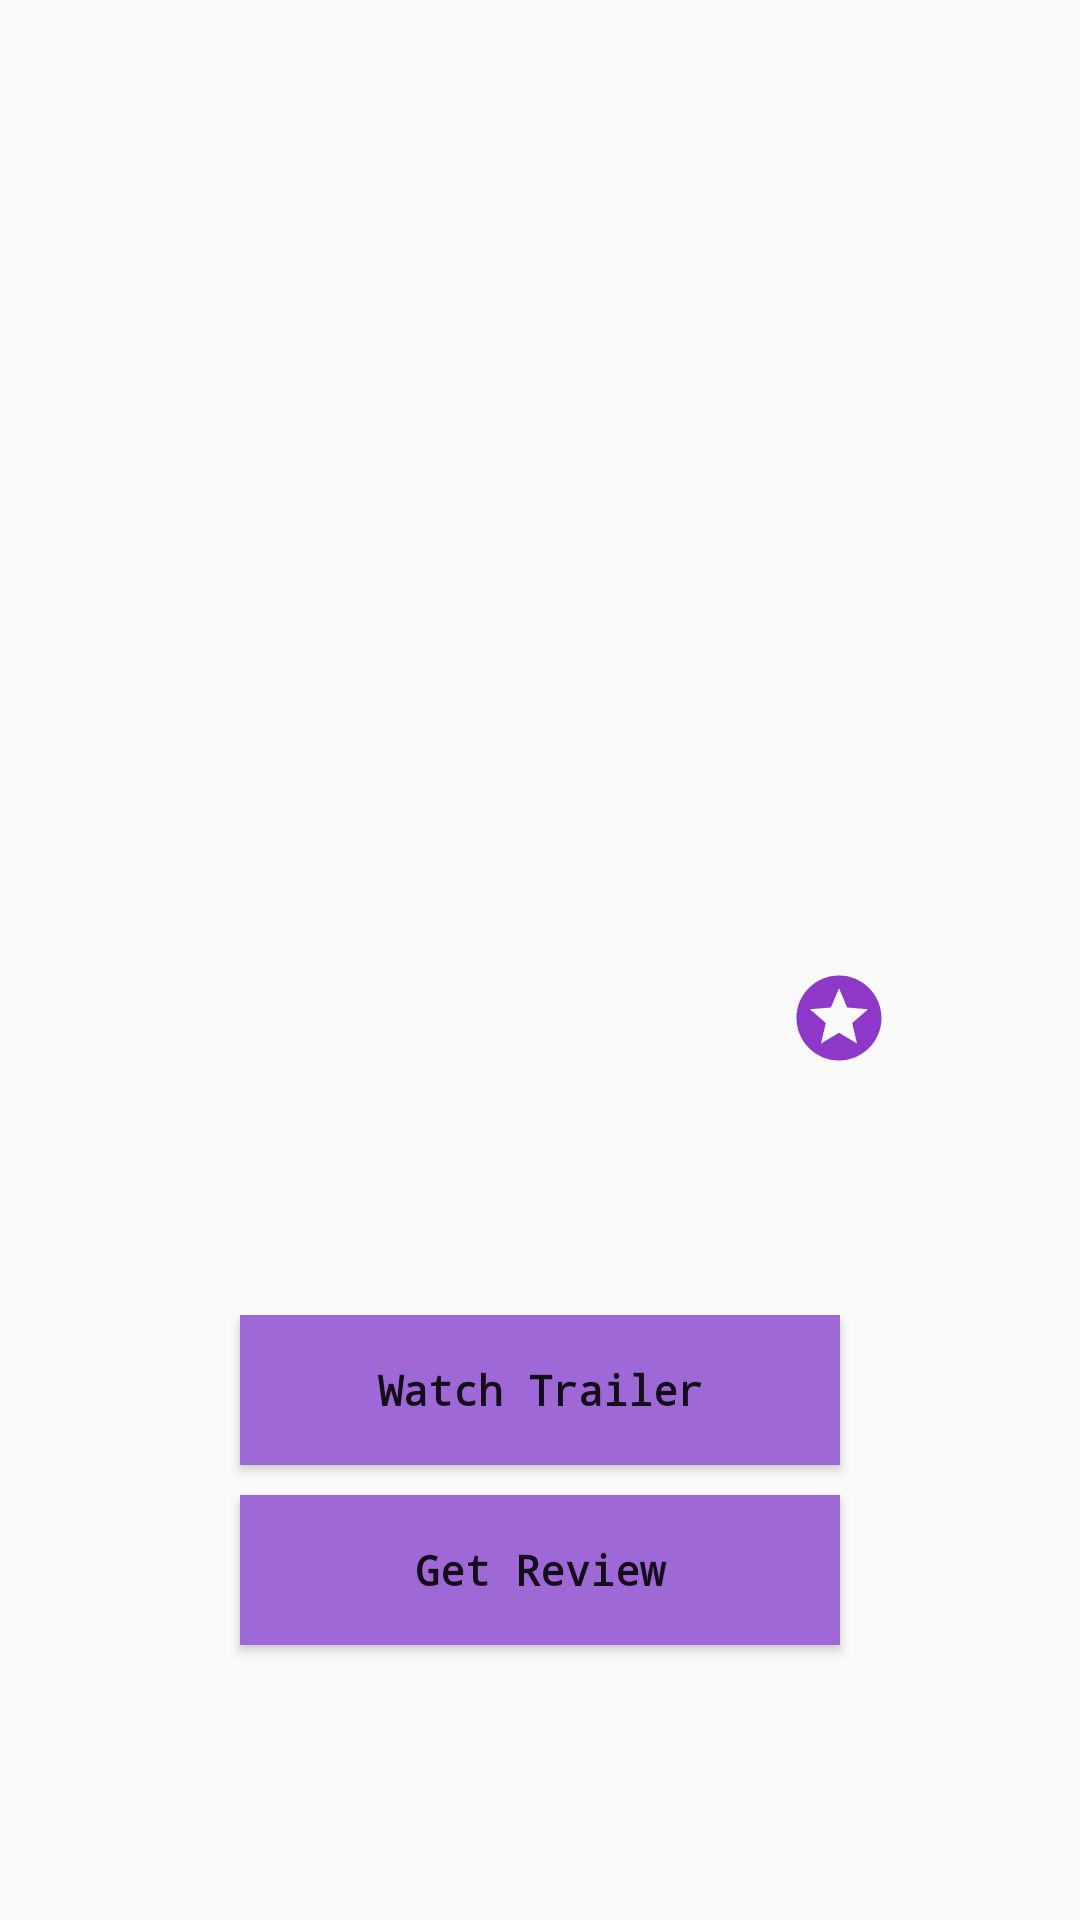

Where icons sit on this 1080w x 1920h app screen, as (x1, y1, x2, y2):
stars: (796, 975, 882, 1061)
